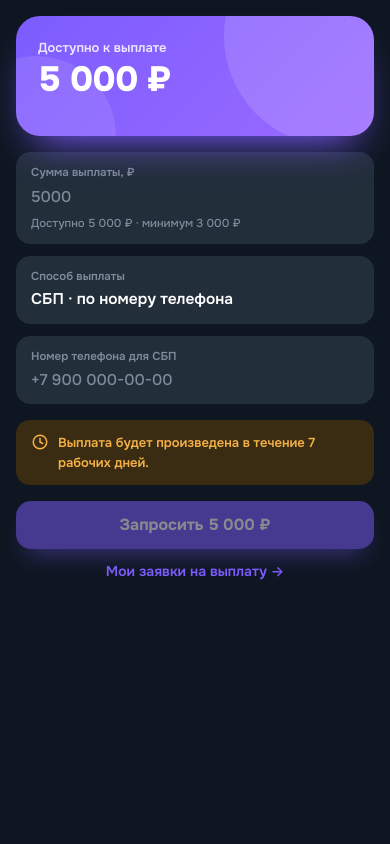
Test case: PayoutPage › does not allow a payout below 3,000 ₽
Type "2999" into the field labelled "Сумма выплаты, ₽".
click(195, 197); type("2999")  # box [31, 186, 359, 209]
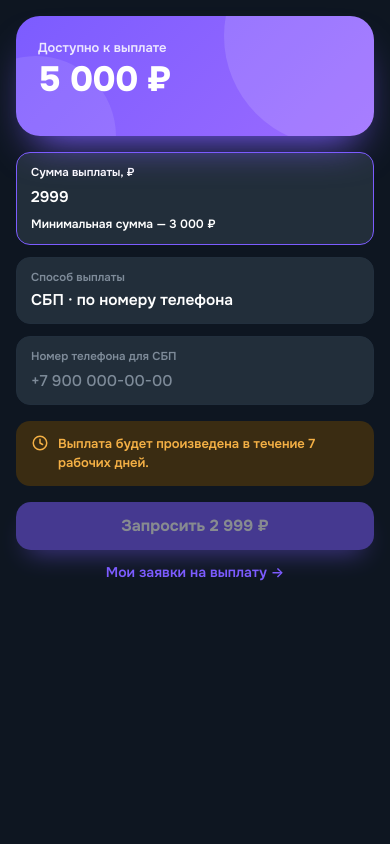
Check: the button "Запросить 2 999 ₽" is disabled, box [16, 502, 374, 550]
Check: the text "Минимальная сумма — 3 000 ₽" is shown, box [31, 216, 216, 232]
